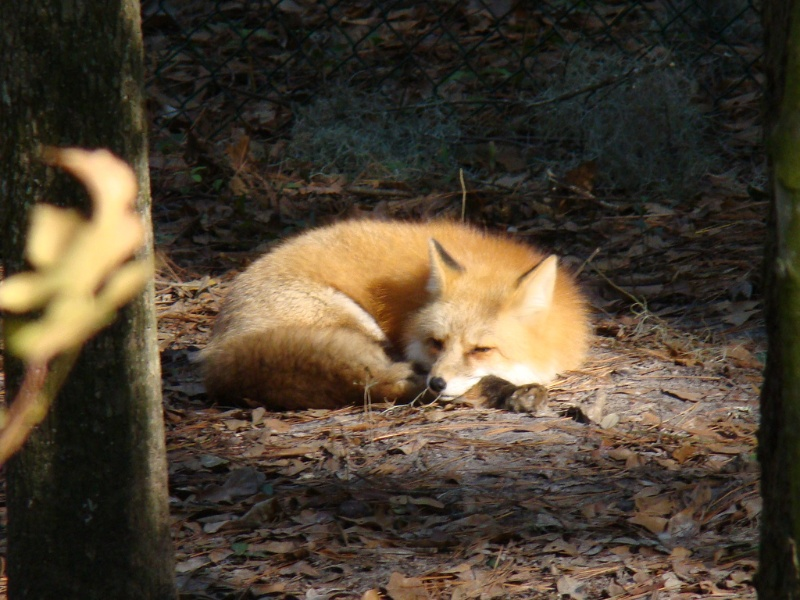fox: (206, 218, 596, 412)
